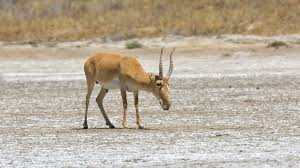saiga: (83, 46, 175, 130)
